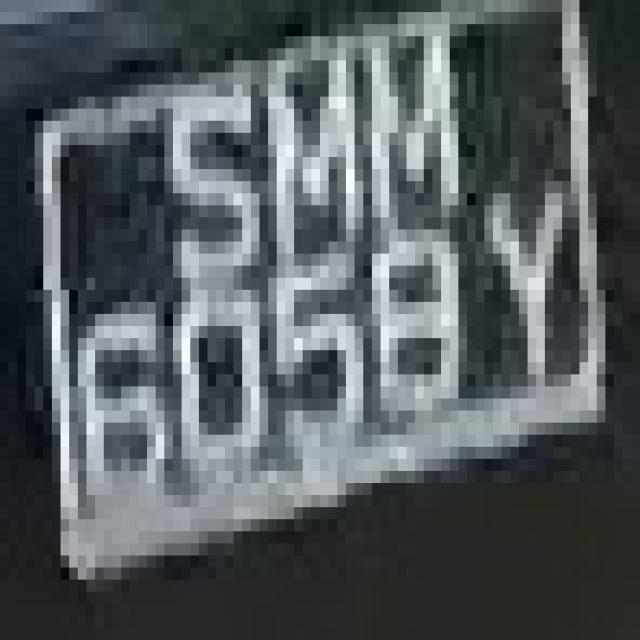0: (156, 253, 268, 459)
5: (260, 253, 364, 459)
6: (60, 290, 182, 519)
8: (372, 229, 467, 435)
M: (346, 12, 467, 266), (242, 48, 363, 242)
S: (138, 48, 260, 266)
Y: (467, 157, 597, 411)
